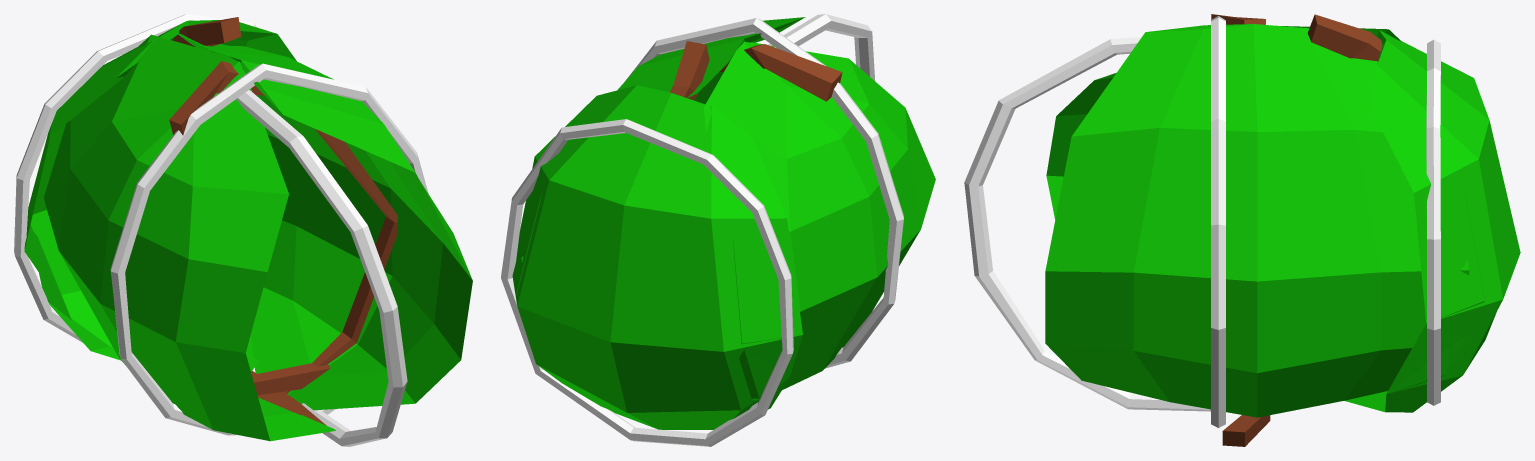
The model's file is Bucket 1.fbx.
The picture shows the model from 3 angles, left to right: view 1: azimuth 30°, elevation 25°; view 2: azimuth 150°, elevation 25°; view 3: azimuth 270°, elevation 25°; orthographic projection. The views are drawn at different scales.
Parts seen in each view (by area): view 1: Cylinder.001; view 2: Cylinder.001; view 3: Cylinder.001.
Boxes of the visible parts, box(x1,y1,x2,y2) form: Cylinder.001: box(14, 14, 472, 446); Cylinder.001: box(501, 14, 935, 446); Cylinder.001: box(964, 14, 1520, 446).
Size of the model in its own units: 596 by 661 by 848.
